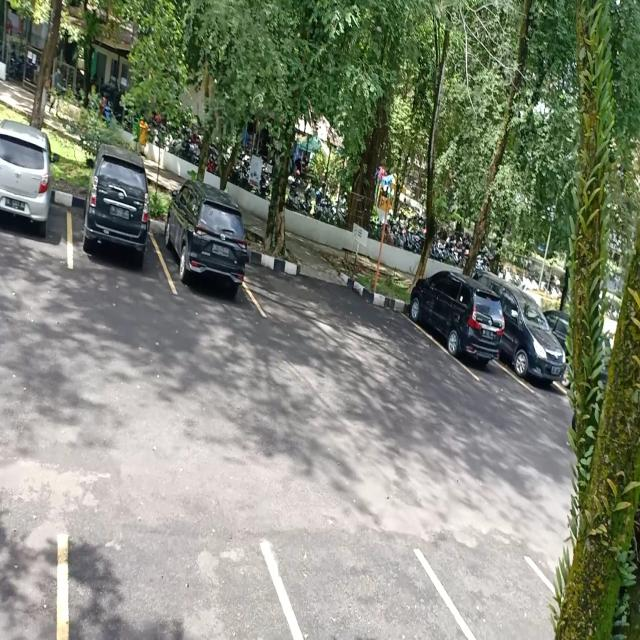occupied: (160, 198, 249, 300), (408, 280, 506, 370), (68, 185, 159, 268), (0, 157, 71, 258), (504, 311, 567, 392)
